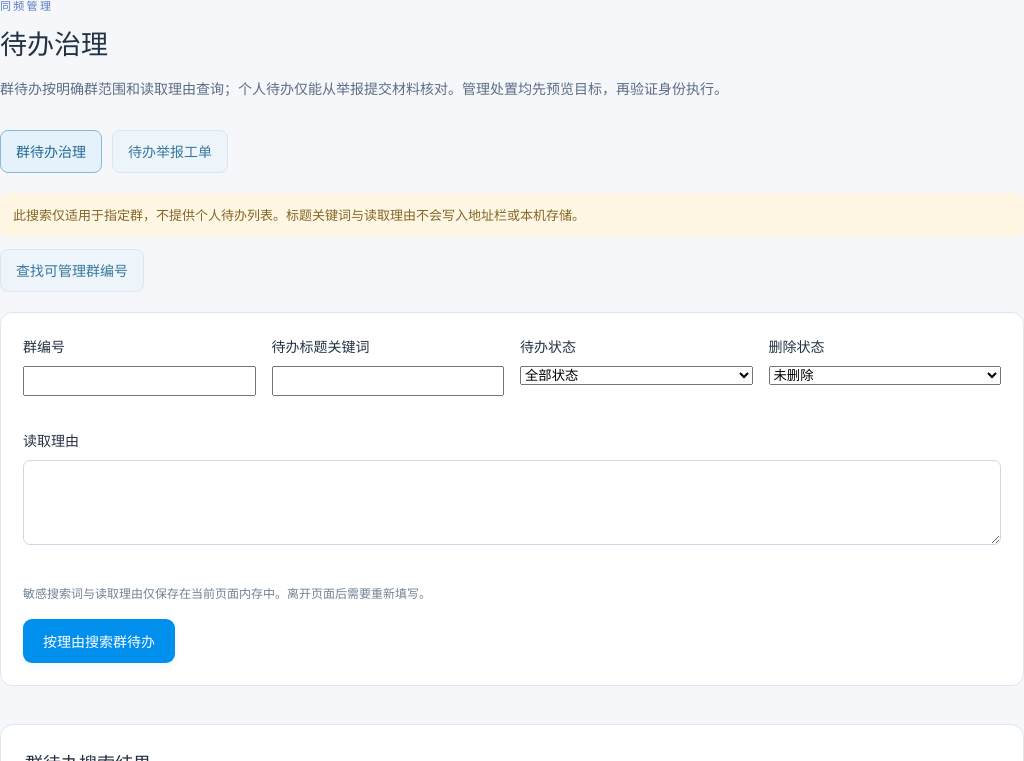
Test: V3 task governance controlled reading › distinguishes an empty result from a failed read and keeps explicit retry in the reason form
Type "group1" into the field labelled "群编号".
click(139, 381); type("group1")  # box [23,366,256,396]
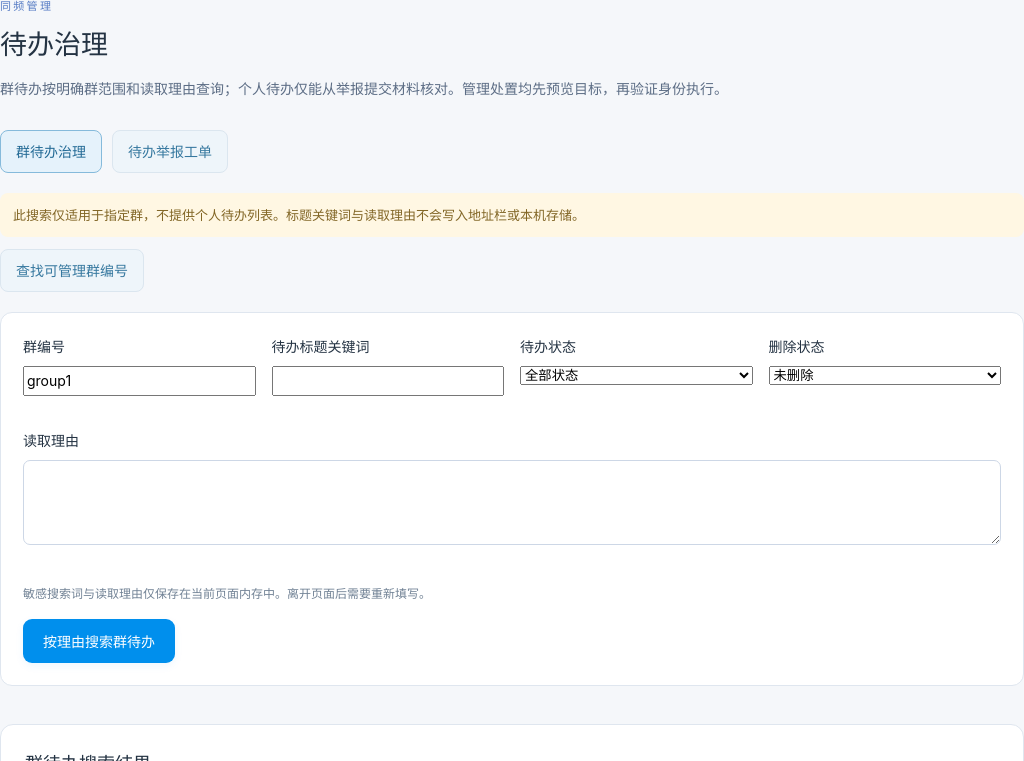
Type "本次明确读取理由" into the text box labelled "读取理由".
click(512, 502); type("本次明确读取理由")  # box [23,460,1001,545]
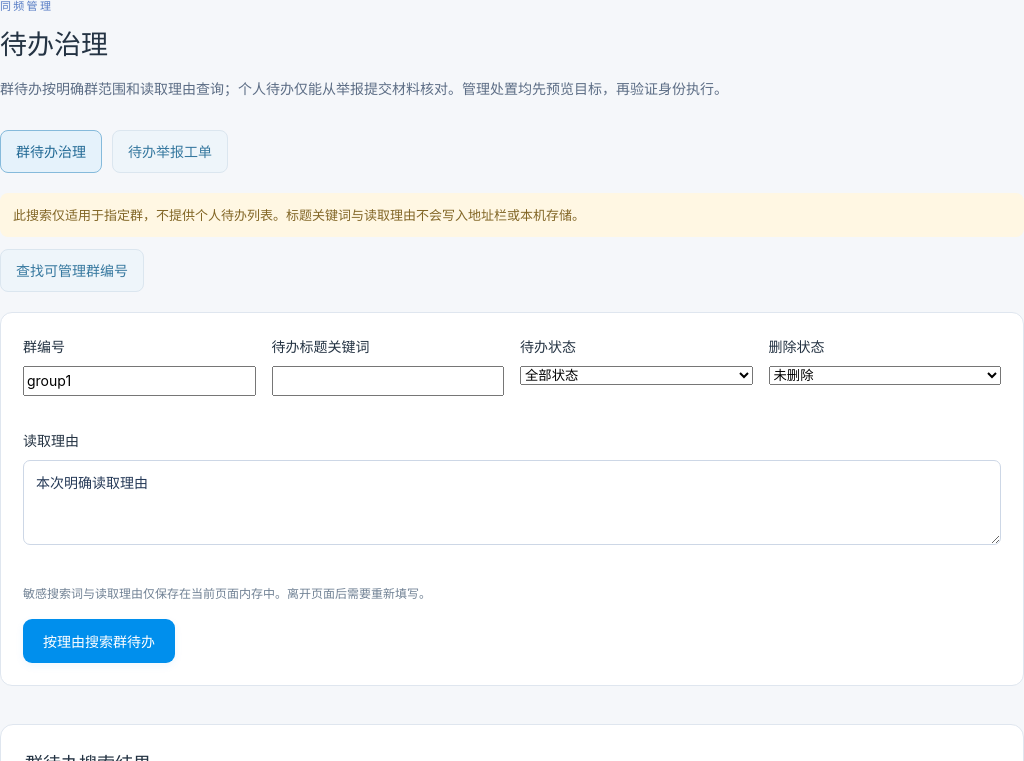
Click the button "按理由搜索群待办".
click(99, 641)  # box [23,619,175,663]
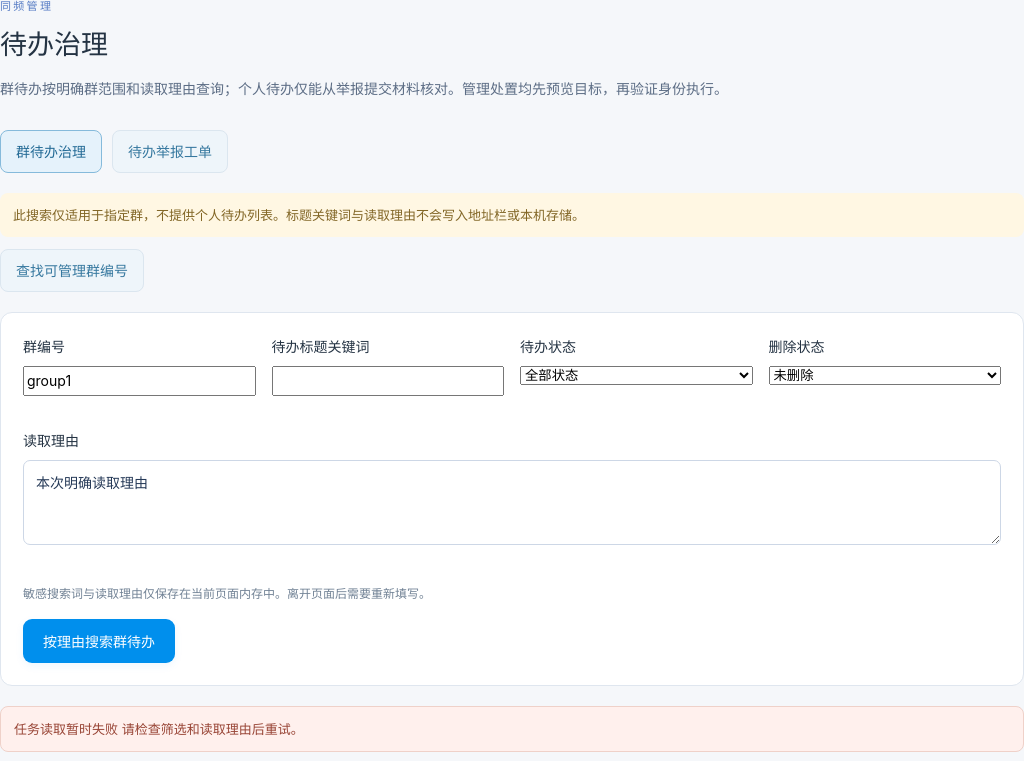
Check: the text "当前群内没有符合这些筛选条件的待办。" is not shown
Check: the text "任务读取暂时失败 请检查筛选和读取理由后重试。" is shown, box [0,706,1023,752]
Click the button "按理由搜索群待办".
click(99, 641)  # box [23,619,175,663]
(page scrolled)
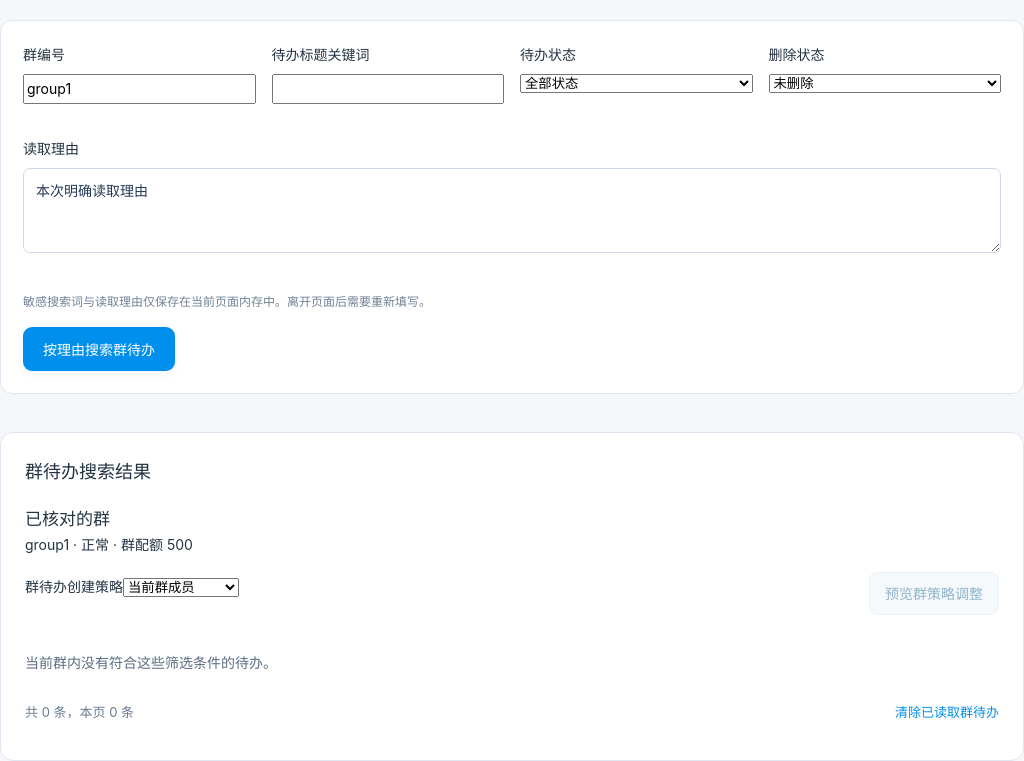
Check: the text "当前群内没有符合这些筛选条件的待办。" is shown, box [25,654,277,671]
